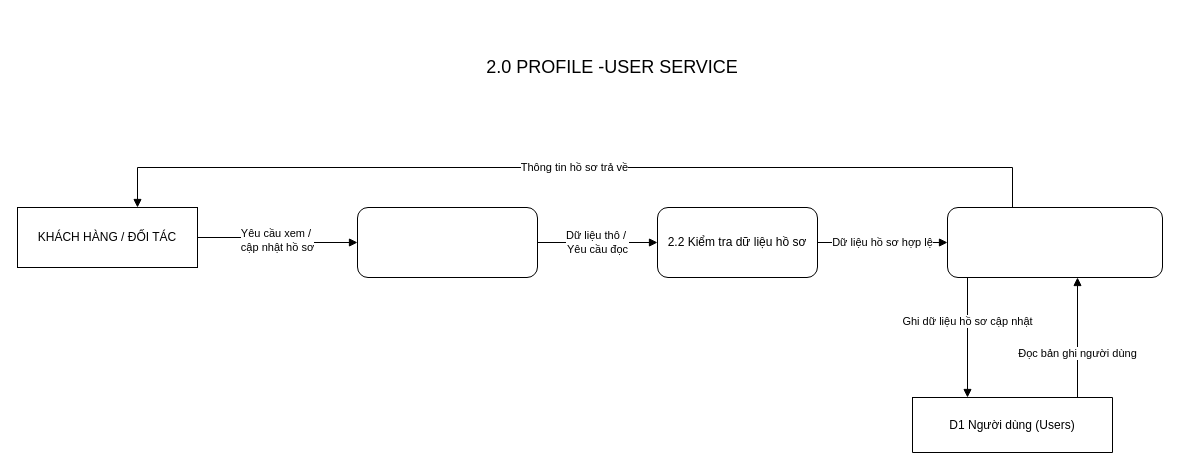
The diagram is 1180 pixels wide and 470 high, and some of its shapes have lost their labels. The centre of each missing label's shape, as x and y in pixels:
"2.1 Tiếp nhận yêu cầu hồ sơ" goes at point 447,242.
"2.3 Cập nhật & Truy vấn CSDL" goes at point 1054,242.
